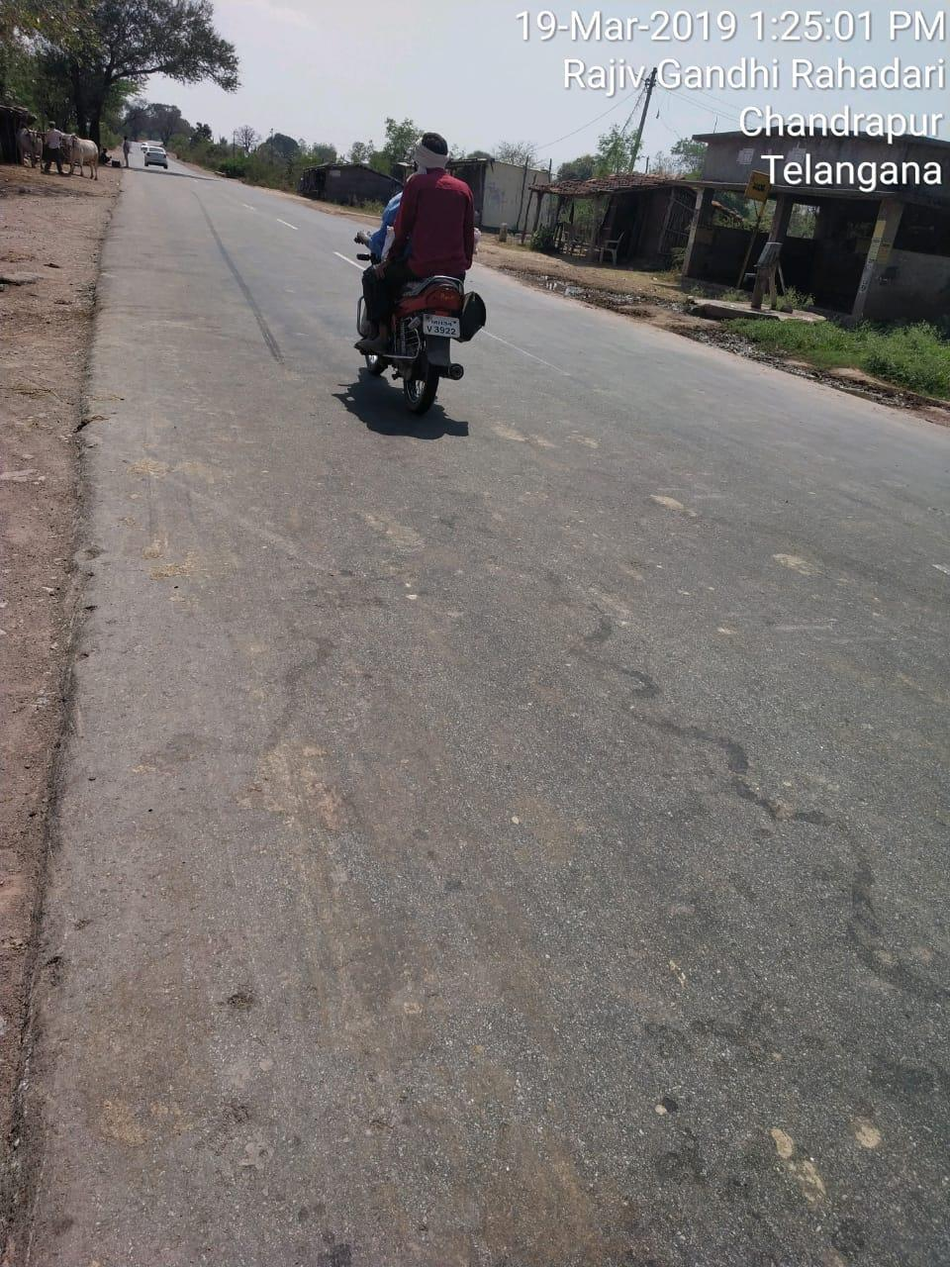plate: (416, 309, 467, 341)
